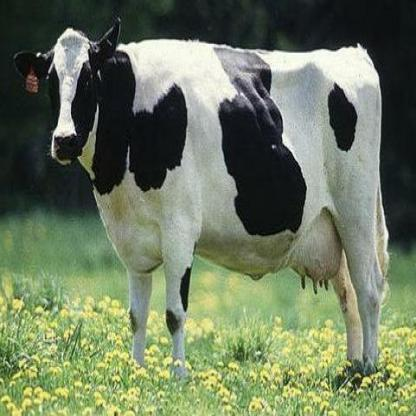cow: (14, 16, 390, 382)
